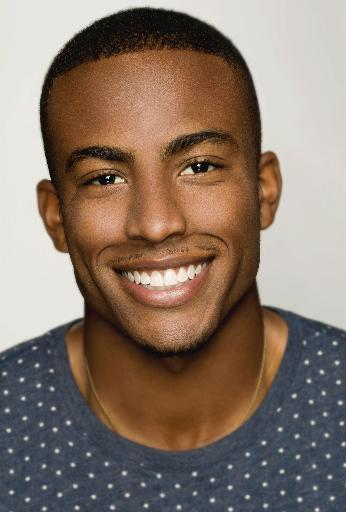left_eye: (178, 156, 227, 180)
left_lip_corner: (200, 250, 226, 265)
right_eye: (83, 170, 129, 191)
right_lip_corner: (108, 259, 128, 282)
